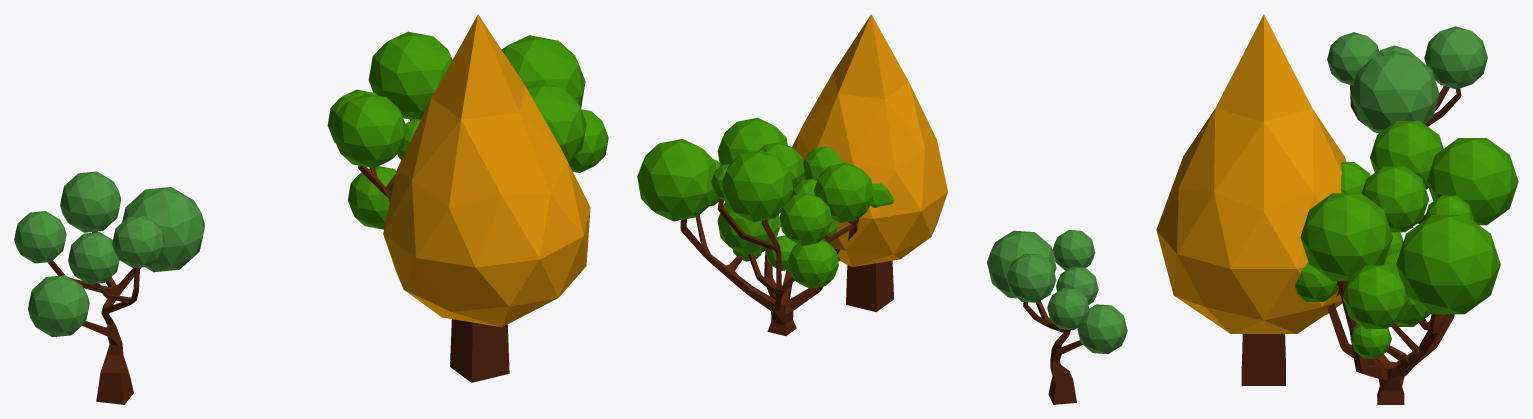
File: asset.glb
3 views of the same model, side by side, from view 1: azimuth 30°, elevation 25°; view 2: azimuth 150°, elevation 25°; view 3: azimuth 270°, elevation 25° (orthographic). The views are drawn at different scales.
Parts seen in each view (by area): view 1: treetop, tree crown (×2), trunk and branches, trunk; view 2: tree crown (×2), treetop, trunk and branches (×2), trunk; view 3: tree crown (×2), treetop, trunk and branches (×2), trunk.
Boxes of the visible parts, box(x1,y1,x2,y2) form: treetop: box(383, 14, 590, 327); tree crown (×2): box(14, 31, 608, 337); trunk and branches: box(48, 231, 141, 404); trunk: box(450, 319, 509, 382); tree crown (×2): box(637, 117, 1127, 354); treetop: box(790, 14, 947, 267); trunk and branches (×2): box(680, 198, 1082, 404); trunk: box(846, 260, 893, 312); tree crown (×2): box(1295, 26, 1518, 358); treetop: box(1156, 14, 1346, 333); trunk and branches (×2): box(1328, 85, 1461, 404); trunk: box(1241, 334, 1285, 385).
Size of the model in its own units: 6.17 by 3.69 by 3.35.
